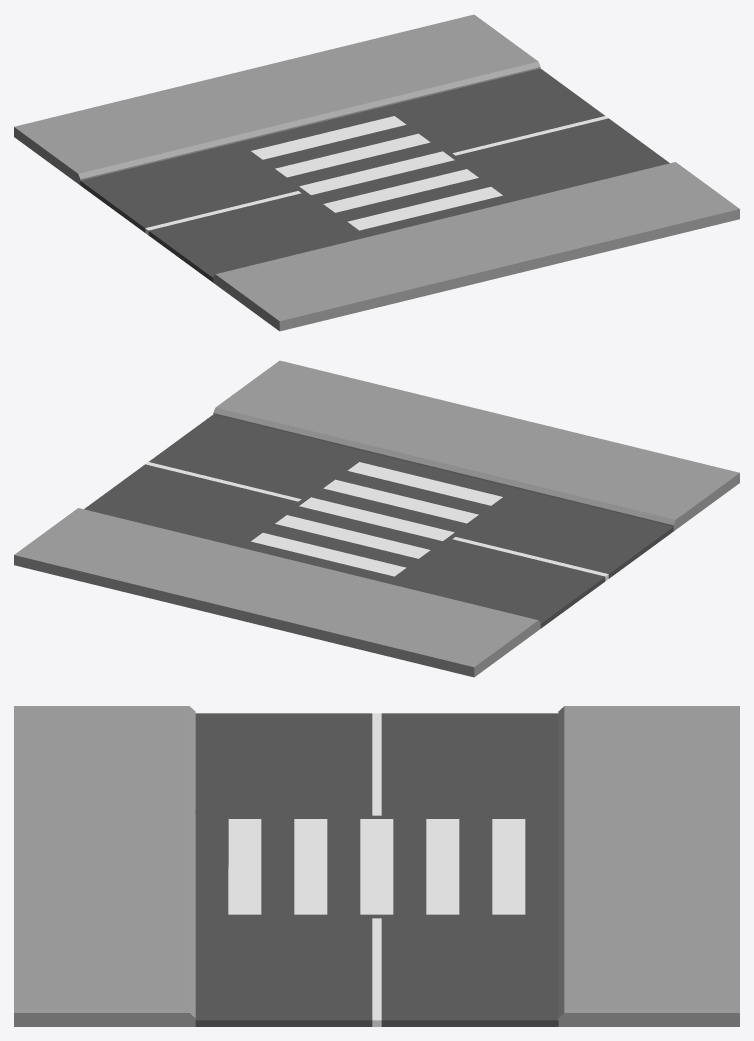
The model's file is roadCross.fbx.
3 renders of one model, top to bottom at view 1: azimuth 30°, elevation 25°; view 2: azimuth 150°, elevation 25°; view 3: azimuth 270°, elevation 25°, orthographic. The views are drawn at different scales.
Parts seen in each view (by area): view 1: RoadCross; view 2: RoadCross; view 3: RoadCross.
Part boxes in pixels (x1,y1,x2,y2): RoadCross: (14, 14, 739, 331); RoadCross: (14, 360, 739, 677); RoadCross: (14, 706, 739, 1026).
Size of the model in its own units: 2000 by 42.29 by 2000.
